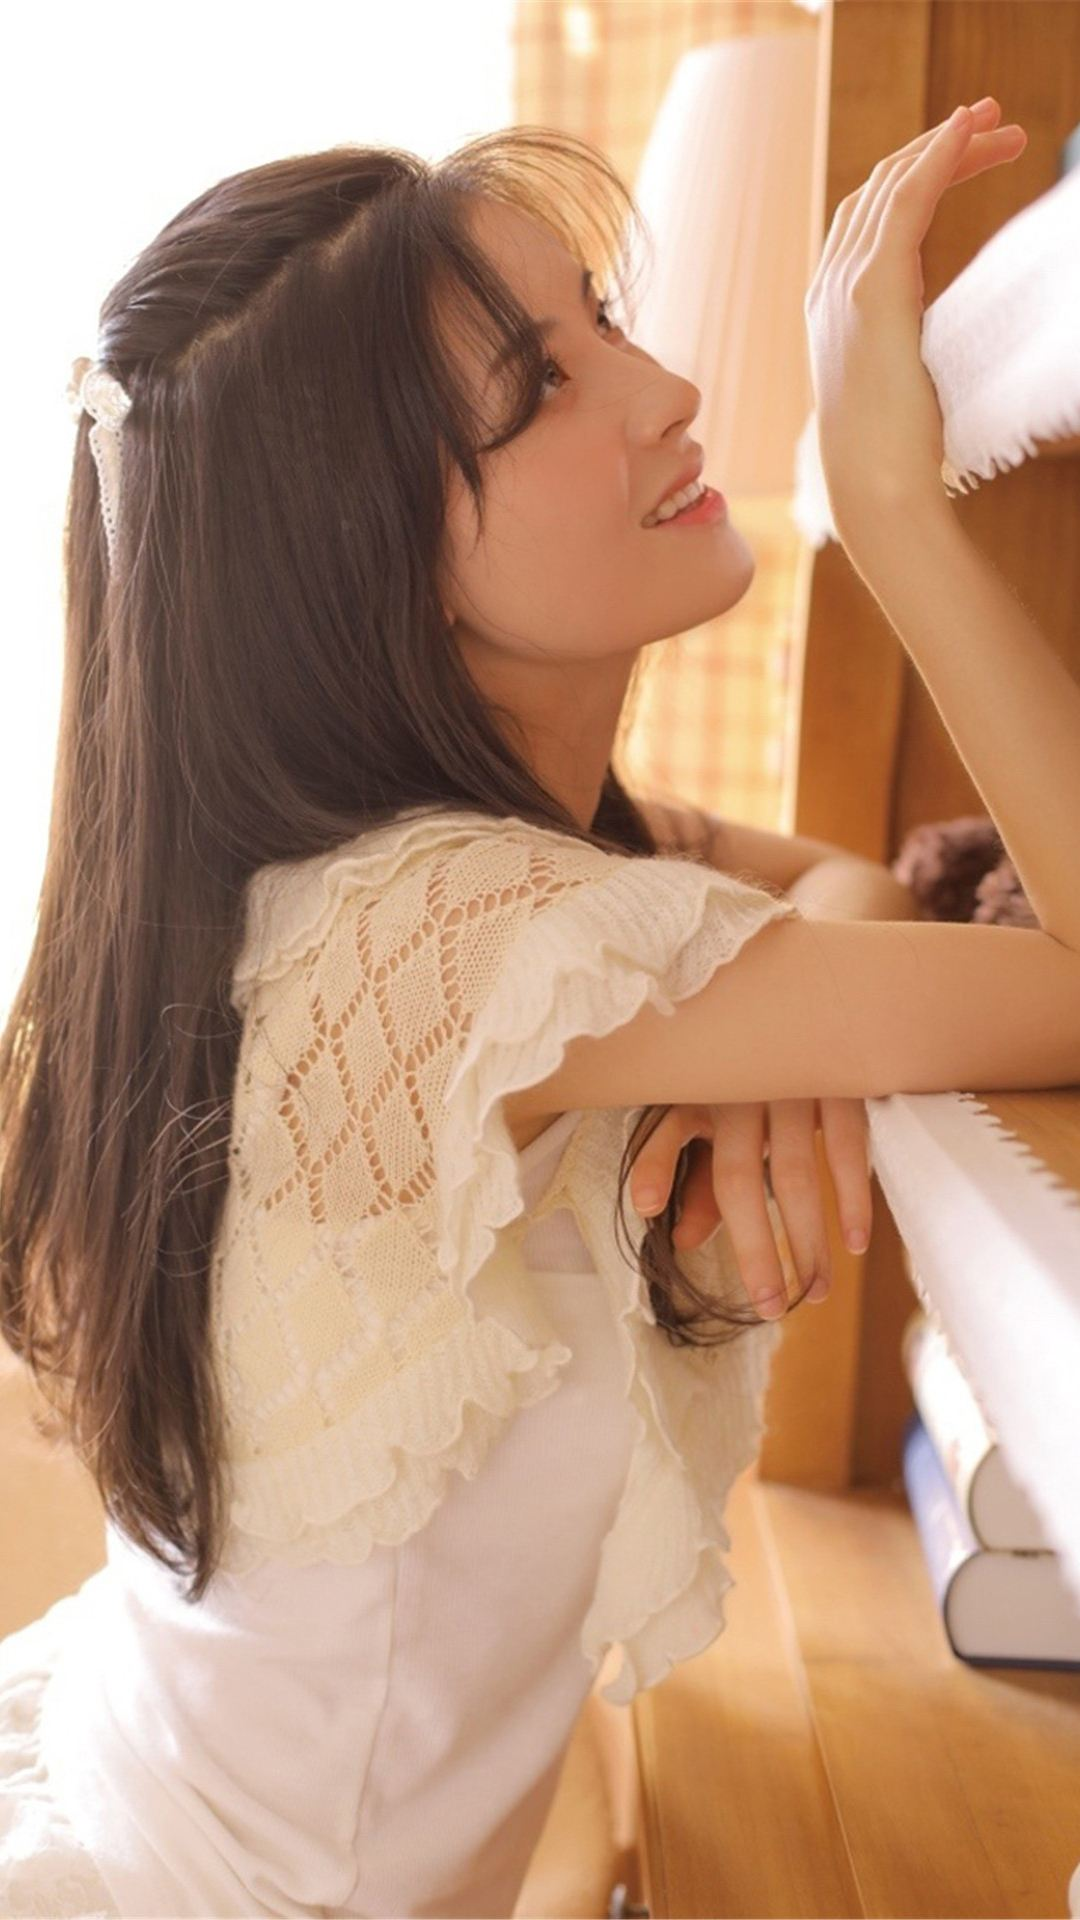person: (49, 135, 1002, 1751)
